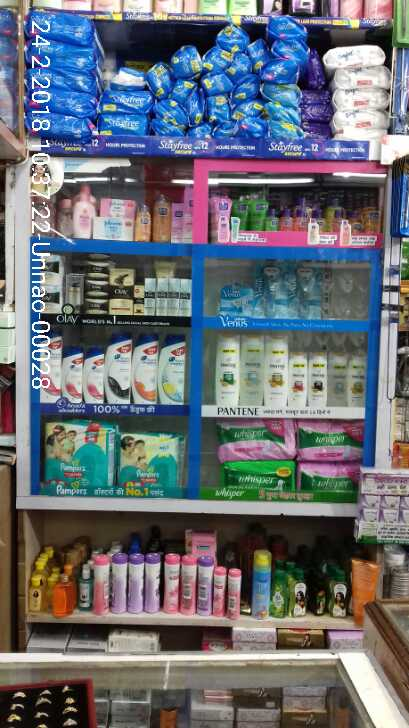venus: (293, 255, 332, 324), (256, 258, 293, 324), (218, 284, 255, 312)
